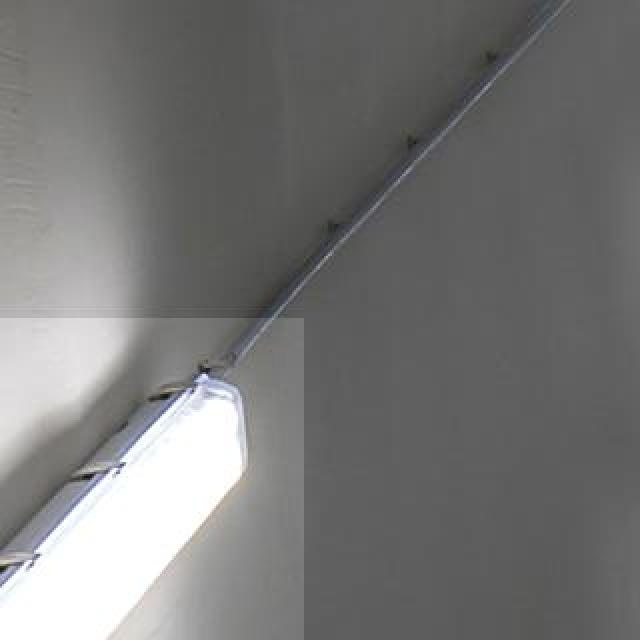fluorescent tube: (0, 358, 284, 640)
